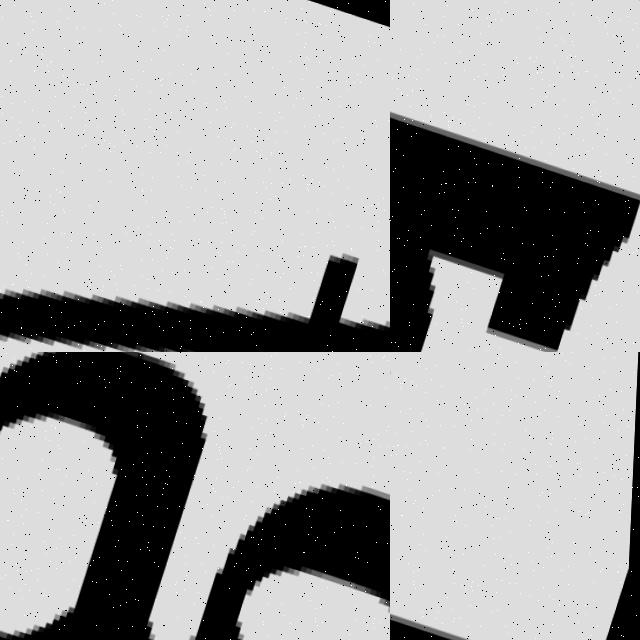D: (390, 0, 640, 352)
F: (0, 36, 390, 352)
G: (0, 352, 390, 640)
K: (390, 352, 636, 640)
